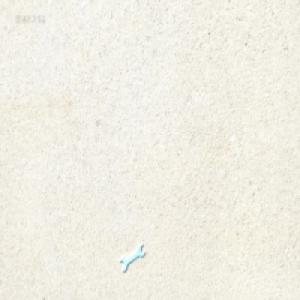Wrench: (120, 243, 144, 272)
